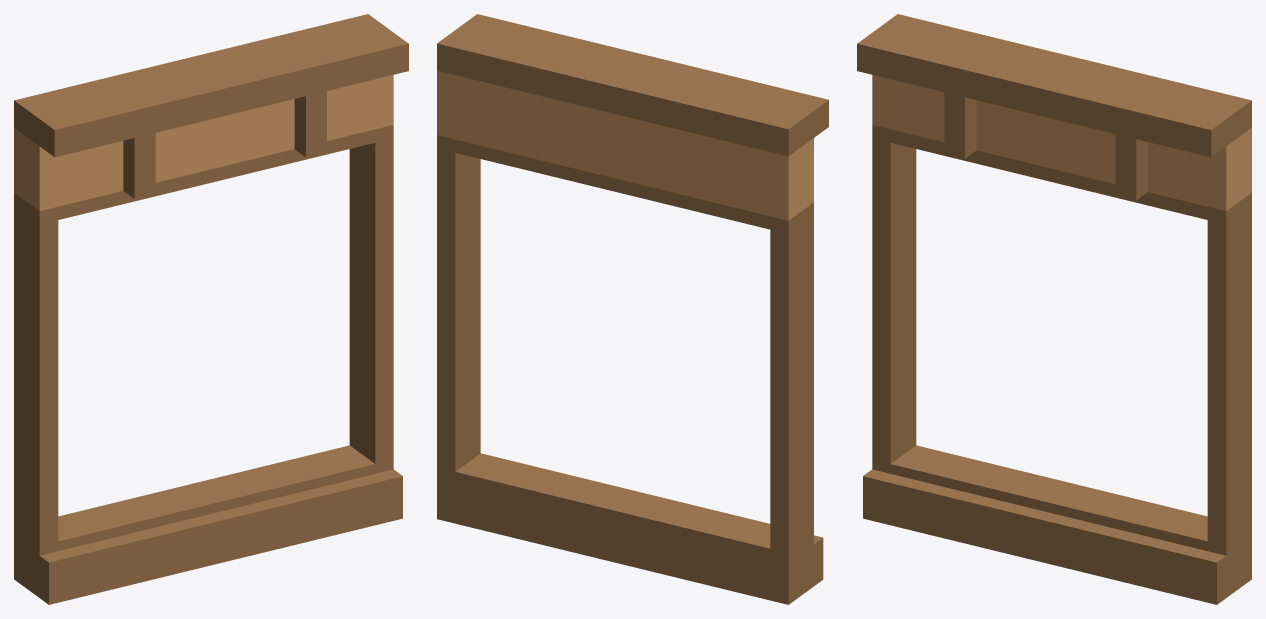
Rendered from doorway.glb.
The picture shows the model from 3 angles, left to right: view 1: azimuth 30°, elevation 25°; view 2: azimuth 150°, elevation 25°; view 3: azimuth 330°, elevation 25°; orthographic projection.
Parts seen in each view (by area): view 1: Wall_Door; view 2: Wall_Door; view 3: Wall_Door.
Boxes of the visible parts, box(x1,y1,x2,y2) form: Wall_Door: box(14, 14, 408, 604); Wall_Door: box(437, 14, 828, 604); Wall_Door: box(857, 14, 1251, 604).
Bounding box in the file's own units: 4 × 5.17 × 0.7952.
Materials: 1 (1 with a texture image).
